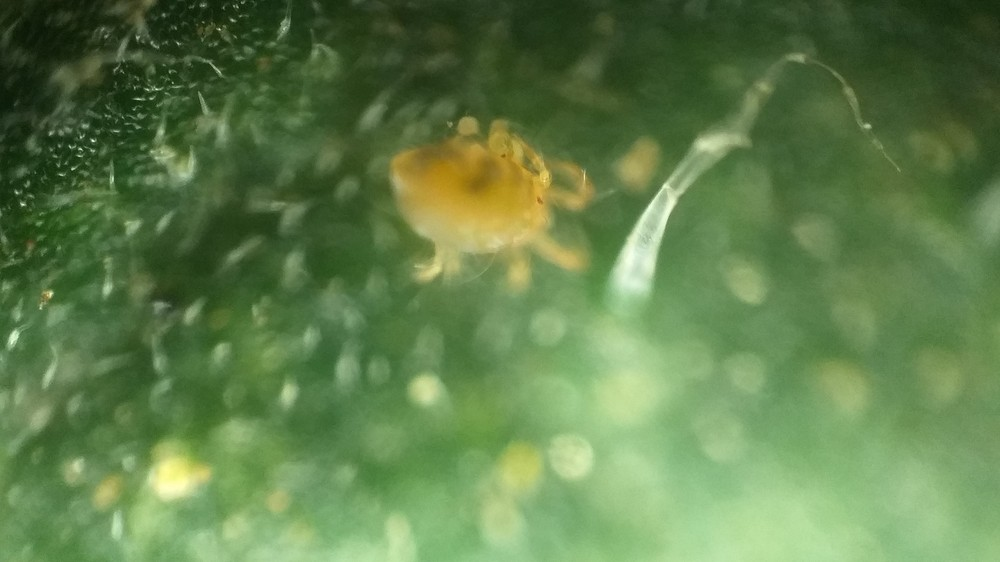Aracnido Rojo: (323, 88, 655, 336)
